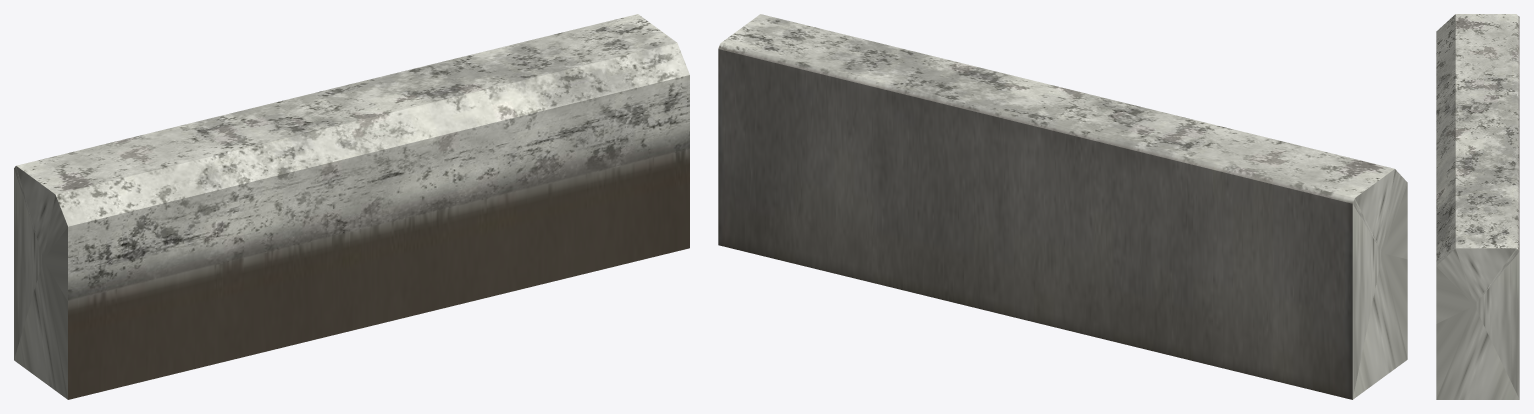
Rendered from curb_straight_white_lod1_web.glb.
3 renders of one model, left to right at view 1: azimuth 30°, elevation 25°; view 2: azimuth 150°, elevation 25°; view 3: azimuth 270°, elevation 25°, orthographic. The views are drawn at different scales.
Parts seen in each view (by area): view 1: curb_straight_white_Mesh; view 2: curb_straight_white_Mesh; view 3: curb_straight_white_Mesh.
Boxes of the visible parts, x1,y1,x2,y2 form: curb_straight_white_Mesh: (14,14,689,399); curb_straight_white_Mesh: (718,14,1407,399); curb_straight_white_Mesh: (1436,14,1519,399).
Size of the model in its own units: 0.995 by 0.3 by 0.15.
Materials: 1 (1 with a texture image).
